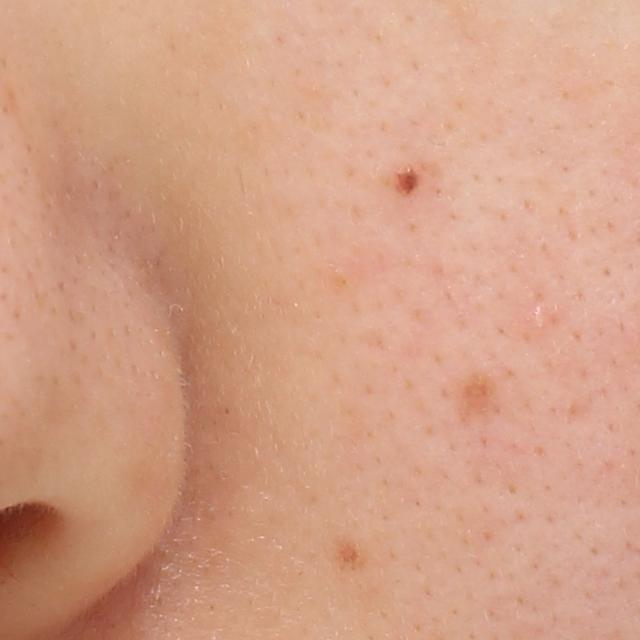comedo: (525, 303, 552, 334)
nevus: (390, 154, 424, 195)
